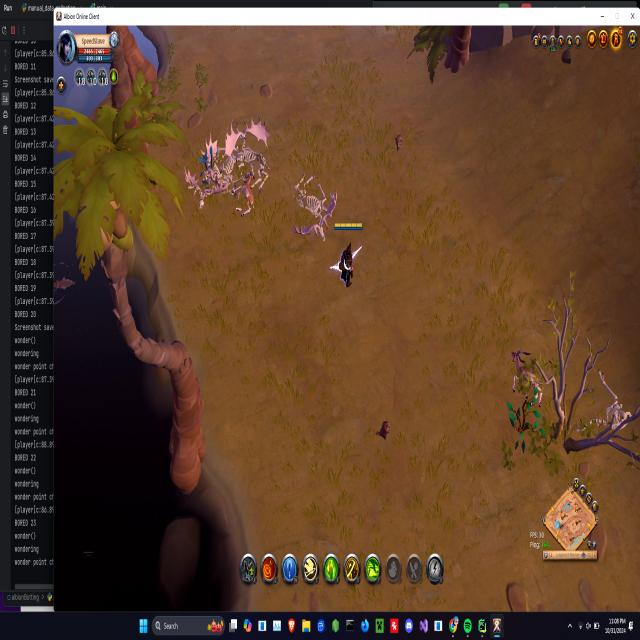mob: (508, 347, 542, 406), (232, 174, 257, 219)
red: (331, 218, 363, 286)
